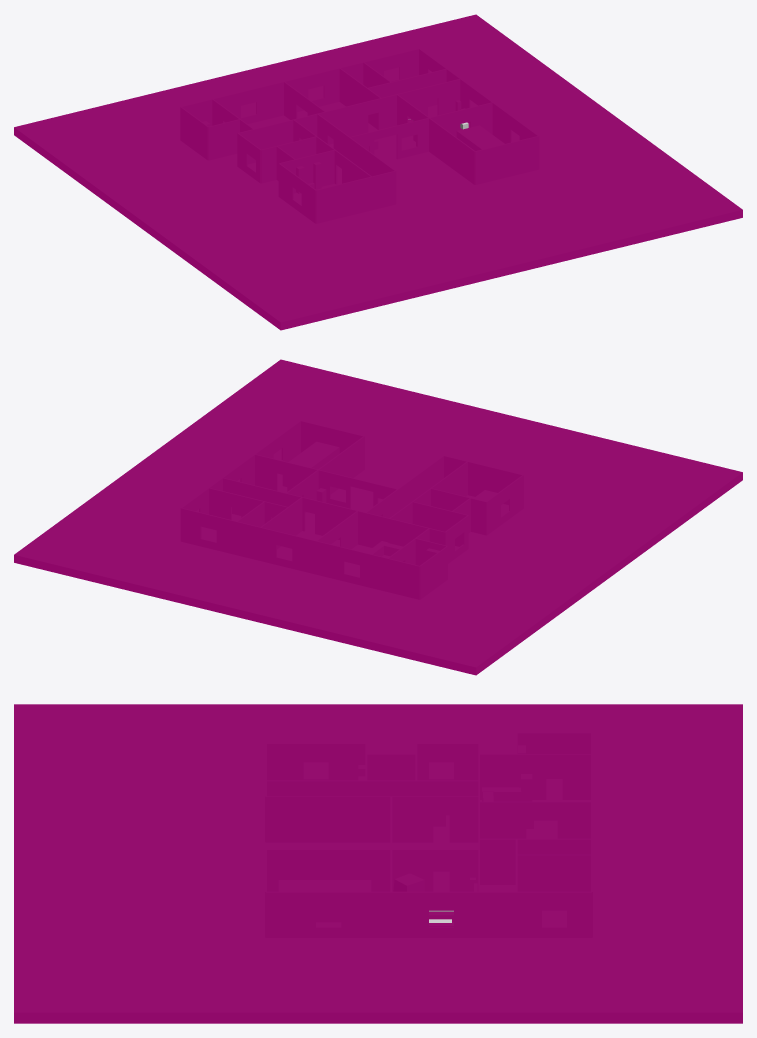
The picture shows the model from 3 angles, top to bottom: view 1: azimuth 30°, elevation 25°; view 2: azimuth 150°, elevation 25°; view 3: azimuth 270°, elevation 25°; orthographic projection. The views are drawn at different scales.
Visible parts, largest first — view 1: collider.052, collider.043, collider.042, collider.008, collider.046, collider.044, collider.025, collider.023, collider.039, collider.028, collider.038, collider.009 (+8 smaller); view 2: collider.052, collider.043, collider.008, collider.044, collider.042, collider.025, collider.028, collider.023, collider.039, collider.046, collider.041, collider.038 (+9 smaller); view 3: collider.052, collider.044, collider.028, collider.025, collider.039, collider.007, collider.006, collider.017, collider.040, collider.013, collider.047, collider (+8 smaller).
Part boxes in pixels (bbox=[...]): collider.052: bbox=[14, 14, 742, 330]; collider.043: bbox=[181, 48, 419, 125]; collider.042: bbox=[316, 171, 395, 223]; collider.008: bbox=[238, 101, 368, 164]; collider.046: bbox=[475, 136, 538, 184]; collider.044: bbox=[419, 49, 539, 168]; collider.025: bbox=[413, 106, 475, 184]; collider.023: bbox=[396, 110, 460, 159]; collider.039: bbox=[278, 163, 315, 223]; collider.028: bbox=[333, 126, 396, 203]; collider.038: bbox=[261, 136, 316, 183]; collider.009: bbox=[378, 87, 427, 129]; collider.052: bbox=[14, 359, 742, 675]; collider.043: bbox=[181, 508, 419, 599]; collider.008: bbox=[315, 500, 445, 547]; collider.044: bbox=[180, 420, 300, 540]; collider.042: bbox=[444, 455, 523, 504]; collider.025: bbox=[302, 436, 364, 512]; collider.028: bbox=[382, 455, 443, 517]; collider.023: bbox=[287, 462, 350, 508]; collider.039: bbox=[486, 475, 523, 534]; collider.046: bbox=[301, 420, 364, 453]; collider.041: bbox=[431, 488, 486, 535]; collider.038: bbox=[412, 501, 468, 546]; collider.052: bbox=[14, 704, 742, 1023]; collider.044: bbox=[266, 891, 591, 937]; collider.028: bbox=[266, 796, 433, 842]; collider.025: bbox=[266, 849, 433, 891]; collider.039: bbox=[266, 743, 366, 780]; collider.007: bbox=[479, 838, 591, 884]; collider.006: bbox=[517, 854, 591, 891]; collider.017: bbox=[479, 754, 546, 799]; collider.040: bbox=[416, 743, 478, 780]; collider.013: bbox=[479, 801, 526, 838]; collider.047: bbox=[517, 732, 591, 778]; collider: bbox=[278, 880, 371, 922].
Bounding box in the file's own units: 58.13 × 4.99 × 58.13.
